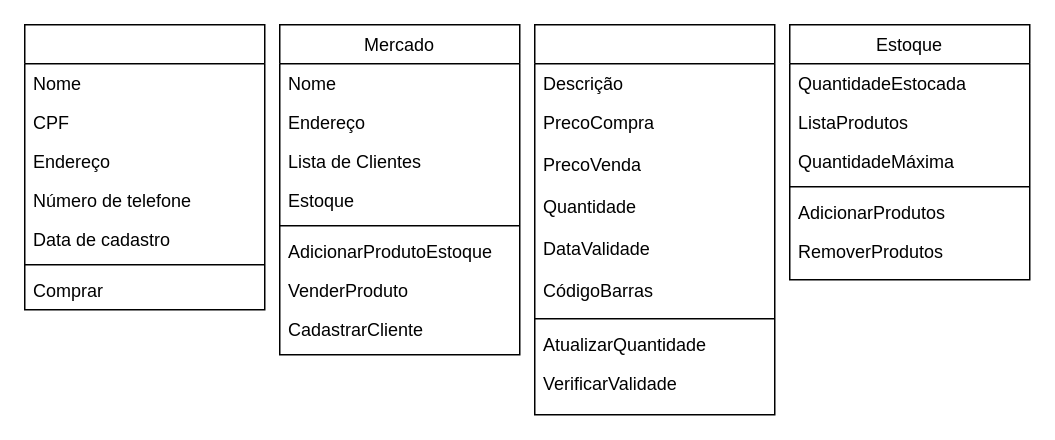
Image size: 1055x440. Some labels were removed from this diagram. The box of each missing label's shape, as (x1, y1, x2, y2) in pixels:
Cliente: (23, 23, 265, 310)
Produto: (533, 23, 775, 415)
